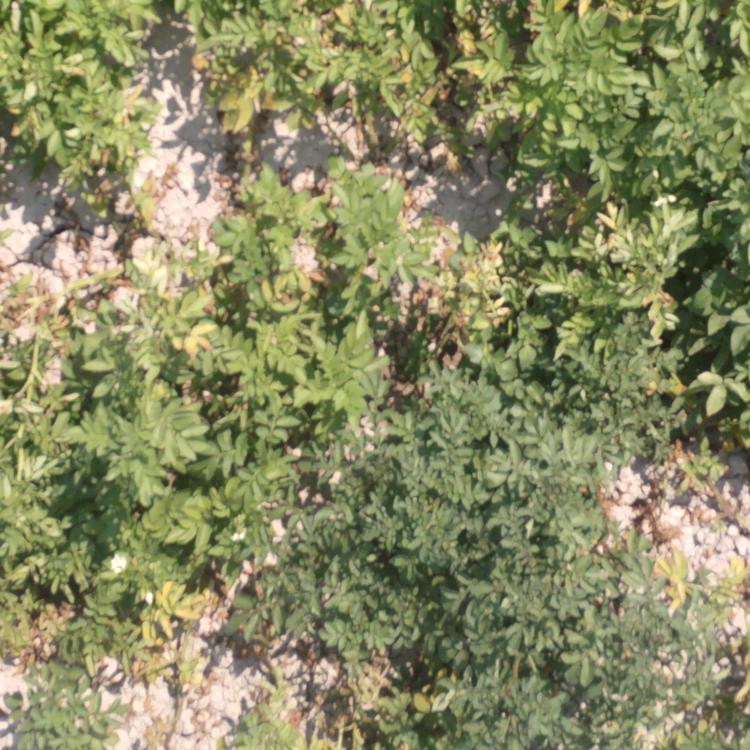healthy: (217, 356, 473, 630), (618, 2, 750, 445), (480, 361, 612, 749), (9, 279, 189, 496), (542, 175, 623, 349)
stressed: (198, 1, 611, 157), (199, 164, 526, 354), (1, 504, 216, 750), (624, 485, 750, 745), (1, 5, 171, 180), (254, 637, 469, 750)
